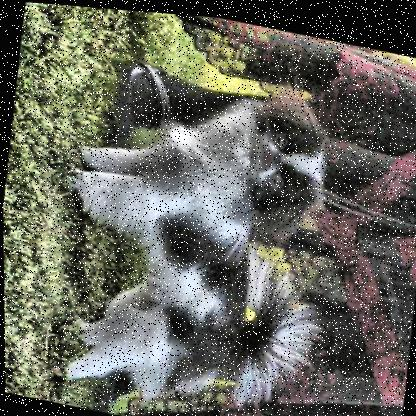dog: (217, 78, 337, 243)
